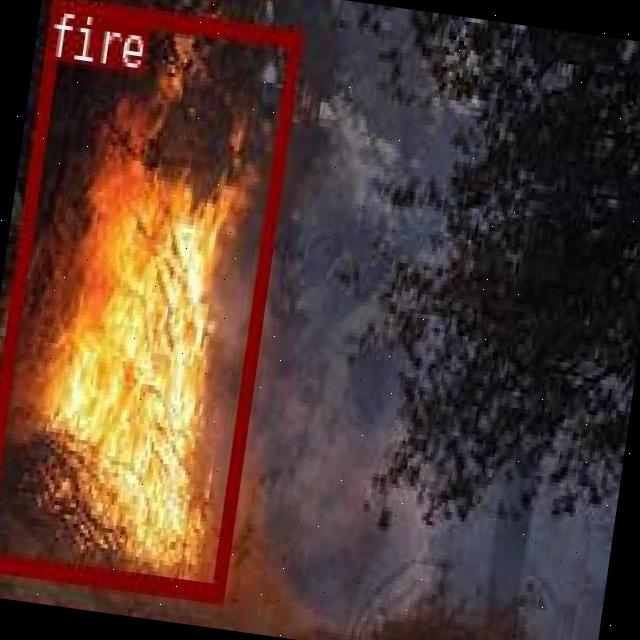fire: (0, 0, 299, 599)
